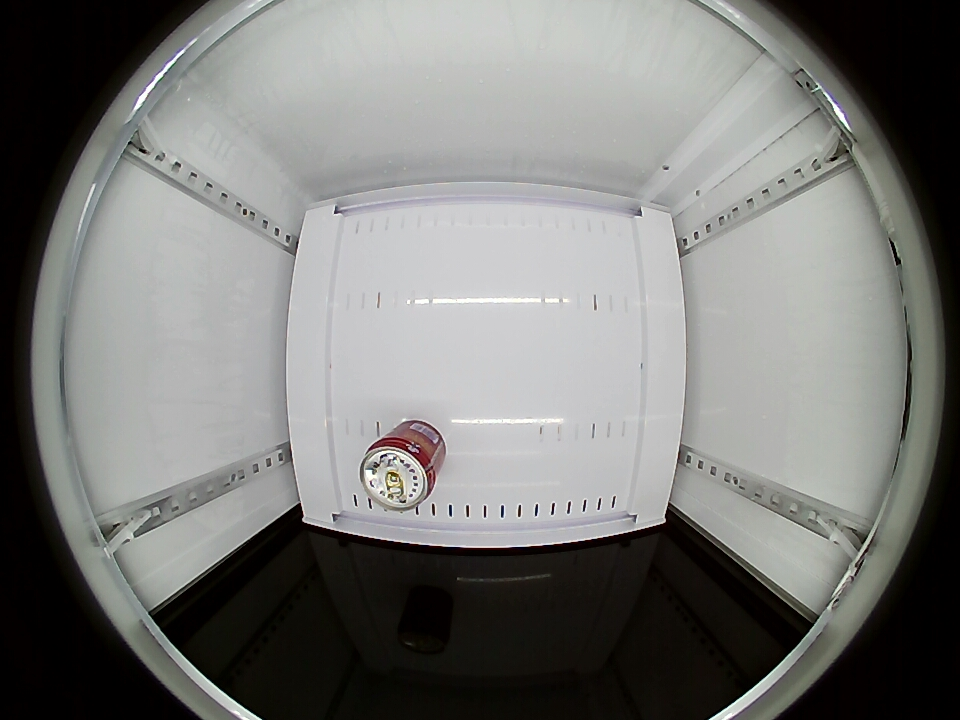wangzainiunai: (360, 425, 444, 513)
